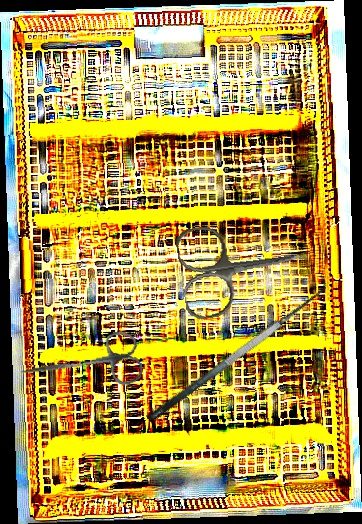Iris Scissors: (174, 212, 307, 322), (16, 328, 145, 402)
Spatula Surgical: (135, 271, 336, 424)
